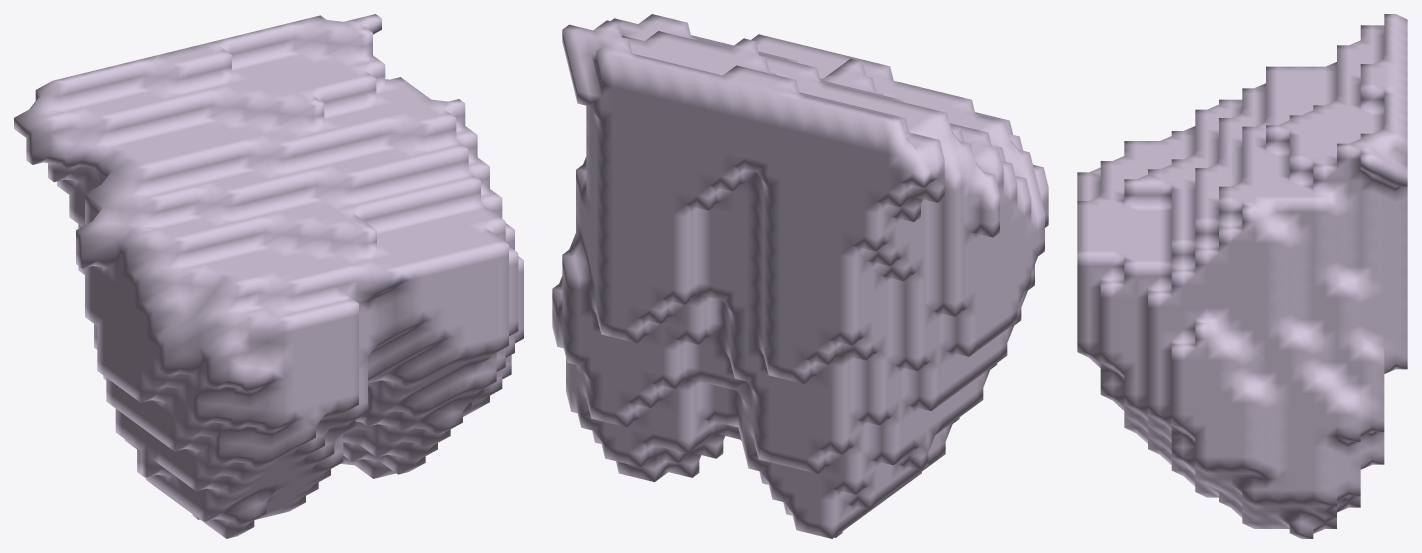
The model's file is region-6.glb.
3 views of the same model, side by side, from view 1: azimuth 30°, elevation 25°; view 2: azimuth 150°, elevation 25°; view 3: azimuth 270°, elevation 25° (orthographic). The views are drawn at different scales.
Parts seen in each view (by area): view 1: digimouse-volume:6; view 2: digimouse-volume:6; view 3: digimouse-volume:6.
Boxes of the visible parts, x1,y1,x2,y2 form: digimouse-volume:6: [14, 14, 523, 538]; digimouse-volume:6: [552, 14, 1048, 538]; digimouse-volume:6: [1077, 14, 1407, 538].
Size of the model in its own units: 0.0036 by 0.0038 by 0.0028.
